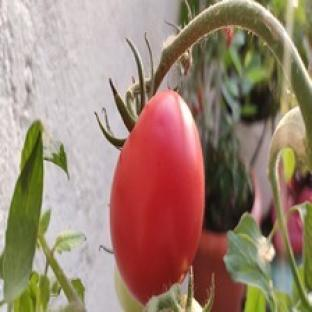Tomato: (111, 91, 203, 303), (115, 268, 143, 311), (191, 299, 201, 311)
